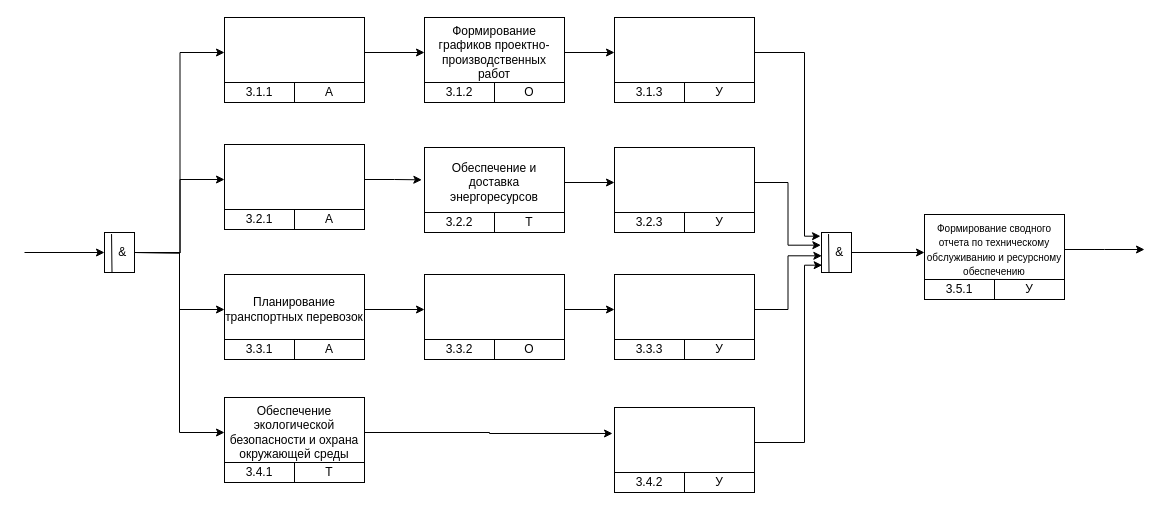
Image size: 1170x510. Some labels were removed from this diagram. Here are the shapes that lost their labels. From the top down, the centre of each, then its label:
At (294,52): "Планирование капитального ремонта и обновления оборудования".
At (684,52): "Учет выполненных ремонтов".
At (294,179): "Планирование потребности в энергоресурсах".
At (684,182): "Учет потребления энергоресурсов".
At (494,309): "Внешние и внутренние перевозки".
At (684,309): "Учет работы транспорта".
At (684,442): "Учет выбросов и сбросов".
